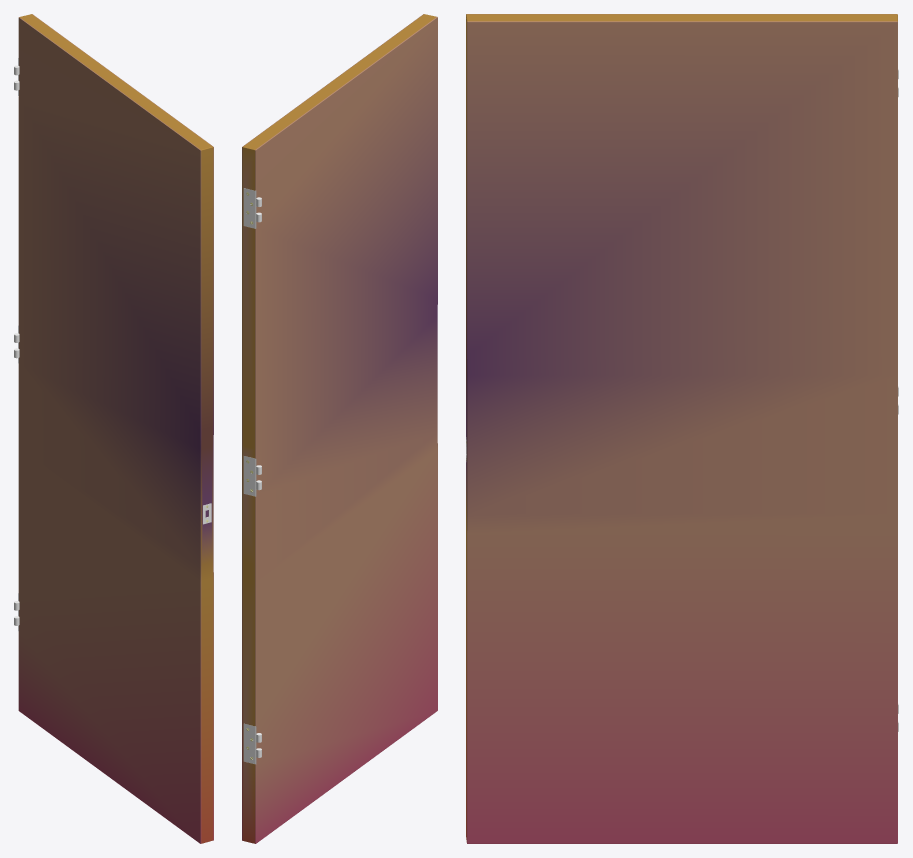
File: Kit_DoorLeaf_Veneer_Oak.fbx
3 views of the same model, side by side, from view 1: azimuth 30°, elevation 25°; view 2: azimuth 150°, elevation 25°; view 3: azimuth 270°, elevation 25° (orthographic). The views are drawn at different scales.
Parts seen in each view (by area): view 1: Kit_DoorLeaf_Veneer_Oak_LOD0; view 2: Kit_DoorLeaf_Veneer_Oak_LOD0; view 3: Kit_DoorLeaf_Veneer_Oak_LOD0.
Part boxes in pixels (box(x1,y1,x2,y2)): Kit_DoorLeaf_Veneer_Oak_LOD0: box(14, 14, 213, 843); Kit_DoorLeaf_Veneer_Oak_LOD0: box(242, 14, 437, 843); Kit_DoorLeaf_Veneer_Oak_LOD0: box(466, 14, 898, 843).
Size of what is drawn, in the model's own units: 0.0589 by 2.08 by 0.9925.
